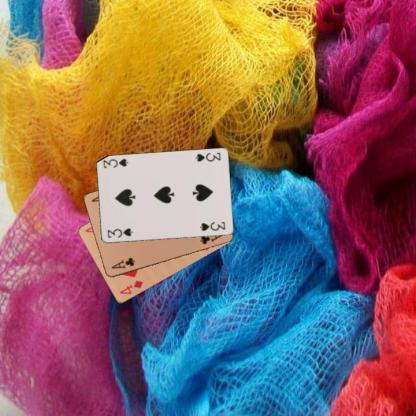3s: (104, 225, 134, 240), (192, 150, 222, 163)
4d: (116, 278, 144, 296)
Ac: (108, 254, 136, 271)
